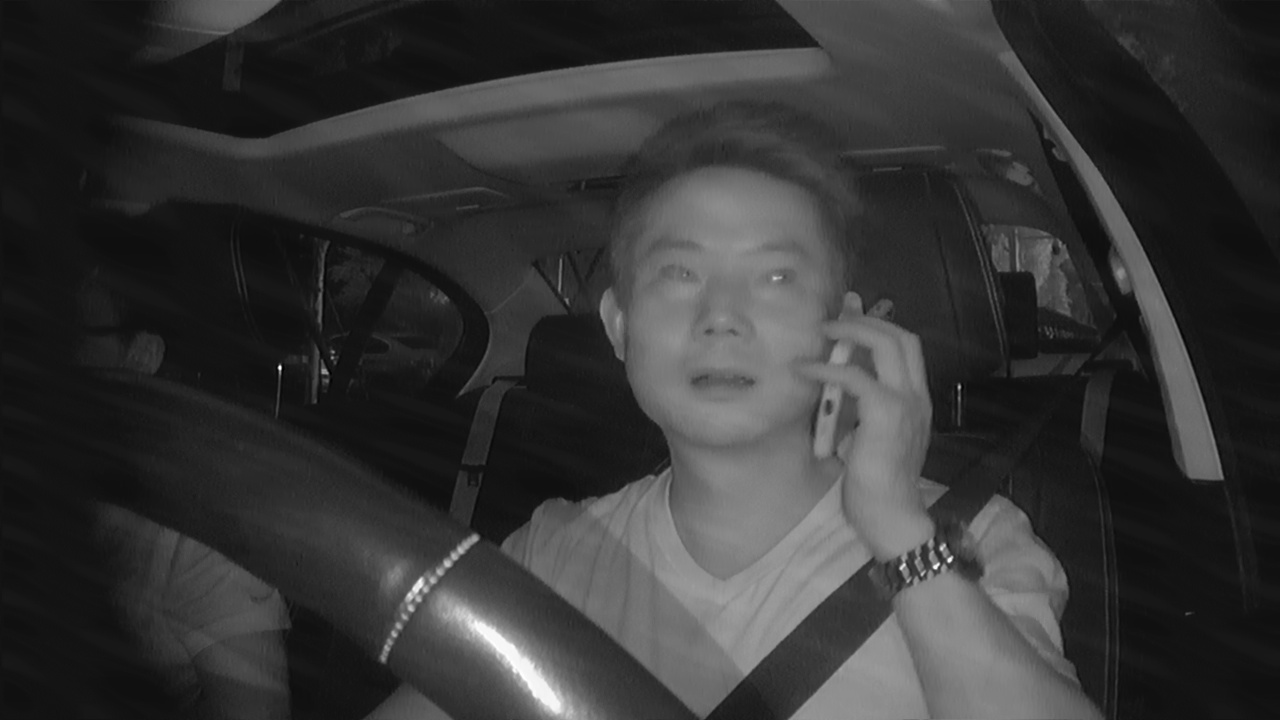hand: (799, 302, 938, 519)
